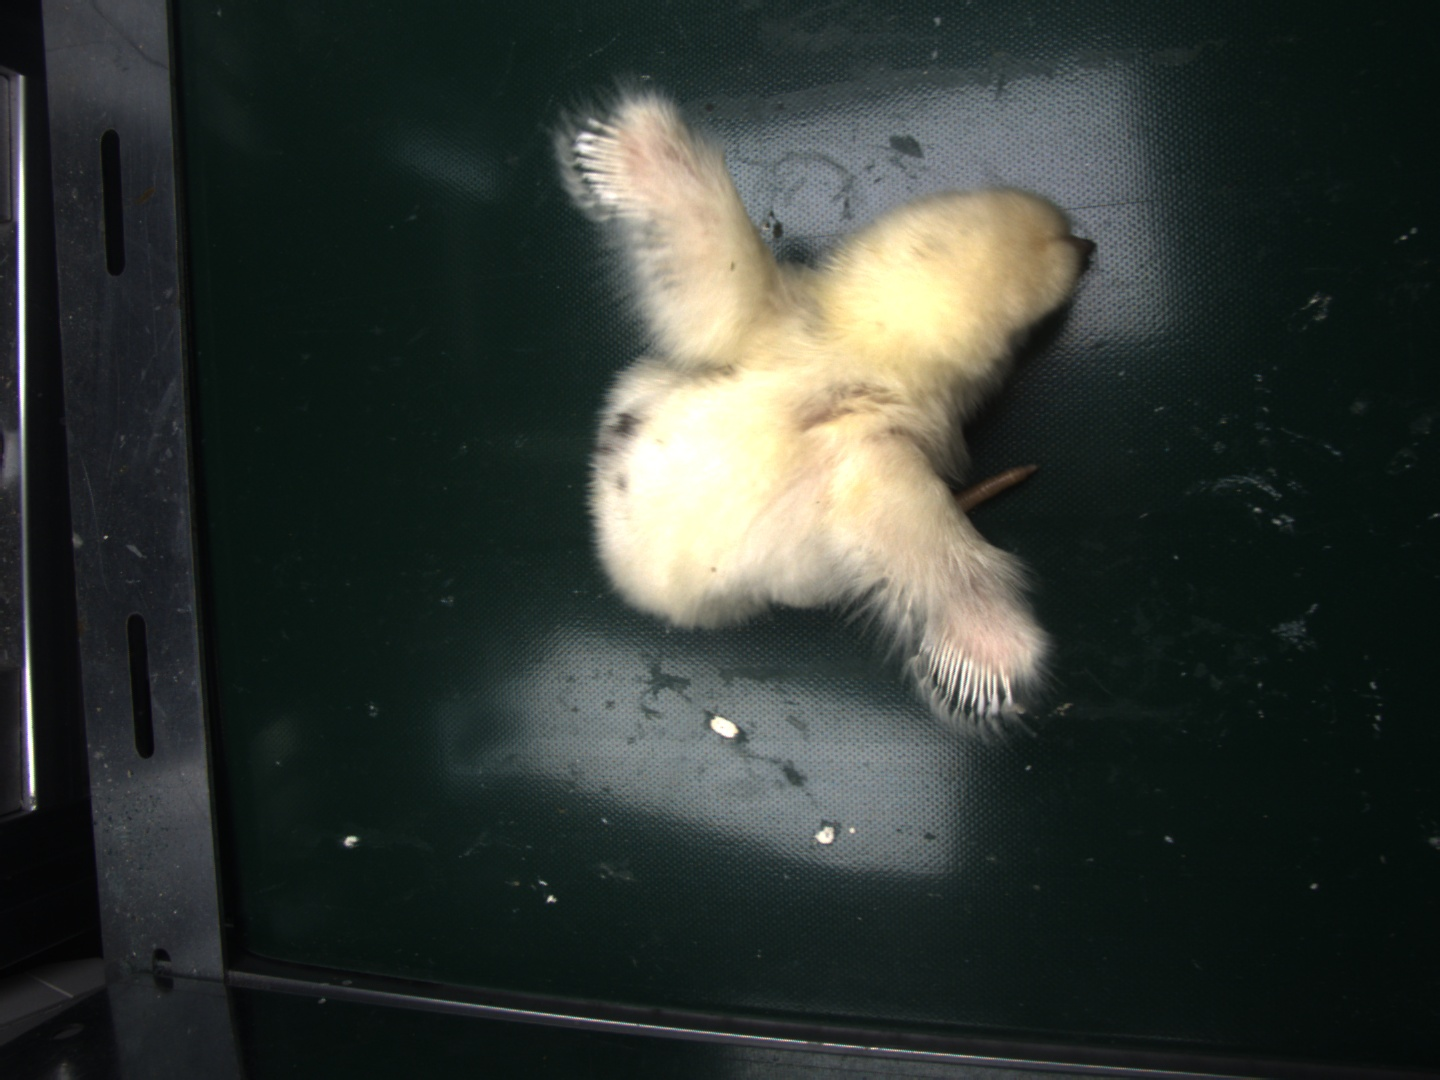male: (923, 628, 1015, 722), (573, 115, 642, 217)
